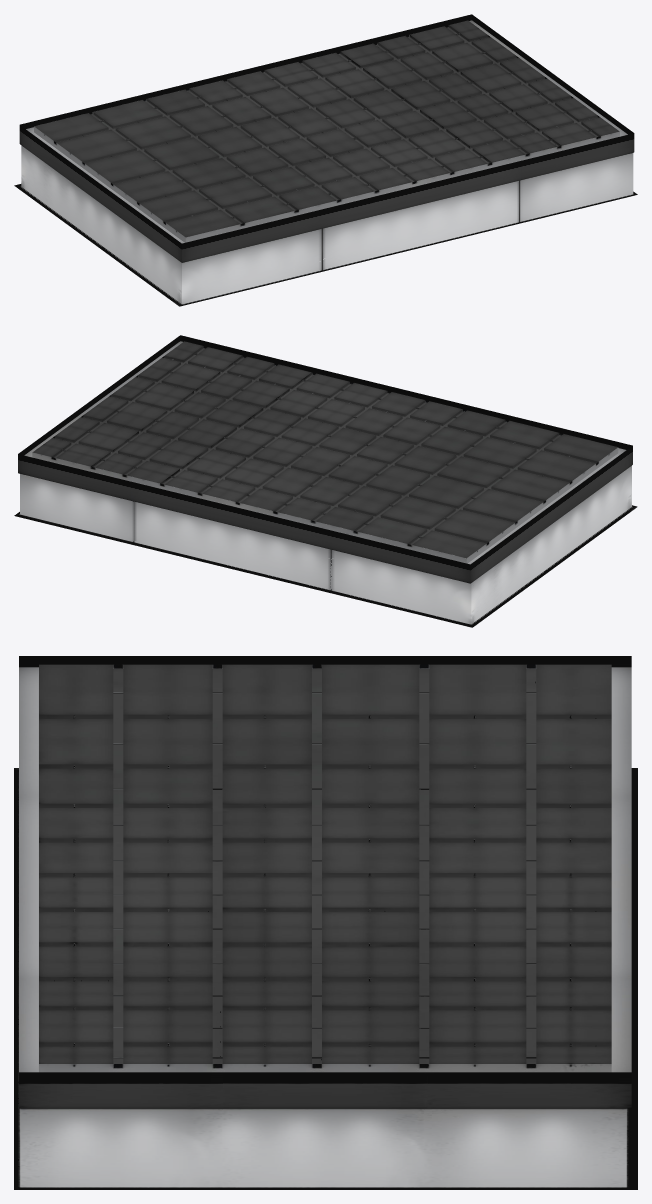
The model's file is artMuseum.glb.
3 renders of one model, top to bottom at view 1: azimuth 30°, elevation 25°; view 2: azimuth 150°, elevation 25°; view 3: azimuth 270°, elevation 25°, orthographic. The views are drawn at different scales.
Visible parts, largest first — view 1: Mesh_Celling01, Mesh_Celling02, Mesh_Wall01, Mesh_Wall02, Mesh_Wall03, Mesh_Floor02, Mesh_Celling03, Mesh_Floor01; view 2: Mesh_Celling01, Mesh_Celling02, Mesh_Wall03, Mesh_Wall02, Mesh_Wall01, Mesh_Floor02, Mesh_Celling03, Mesh_Floor01; view 3: Mesh_Celling01, Mesh_Celling02, Mesh_Wall02, Mesh_Wall03, Mesh_Wall01, Mesh_Floor01, Mesh_Floor02, Mesh_Celling03.
Boxes of the visible parts, left/top/right/bottom form: Mesh_Celling01: left=34, top=71, right=411, bottom=237; Mesh_Celling02: left=263, top=20, right=619, bottom=181; Mesh_Wall01: left=182, top=131, right=634, bottom=304; Mesh_Wall02: left=19, top=14, right=633, bottom=303; Mesh_Wall03: left=20, top=14, right=471, bottom=132; Mesh_Floor02: left=14, top=184, right=389, bottom=306; Mesh_Celling03: left=82, top=33, right=591, bottom=218; Mesh_Floor01: left=388, top=191, right=637, bottom=255; Mesh_Celling01: left=240, top=392, right=617, bottom=558; Mesh_Celling02: left=32, top=341, right=388, bottom=502; Mesh_Wall03: left=18, top=452, right=471, bottom=624; Mesh_Wall02: left=18, top=335, right=632, bottom=623; Mesh_Wall01: left=180, top=335, right=632, bottom=453; Mesh_Floor02: left=194, top=505, right=637, bottom=627; Mesh_Celling03: left=62, top=353, right=570, bottom=538; Mesh_Floor01: left=14, top=512, right=196, bottom=559; Mesh_Celling01: left=39, top=664, right=611, bottom=877; Mesh_Celling02: left=39, top=877, right=611, bottom=1063; Mesh_Wall02: left=19, top=656, right=631, bottom=1187; Mesh_Wall03: left=611, top=667, right=631, bottom=1072; Mesh_Wall01: left=19, top=667, right=38, bottom=1072; Mesh_Floor01: left=14, top=961, right=637, bottom=1189; Mesh_Floor02: left=14, top=768, right=637, bottom=1024; Mesh_Celling03: left=73, top=692, right=572, bottom=1058.
Size of the model in its own units: 40 by 5.21 by 25.
15 materials, 11 textured.
